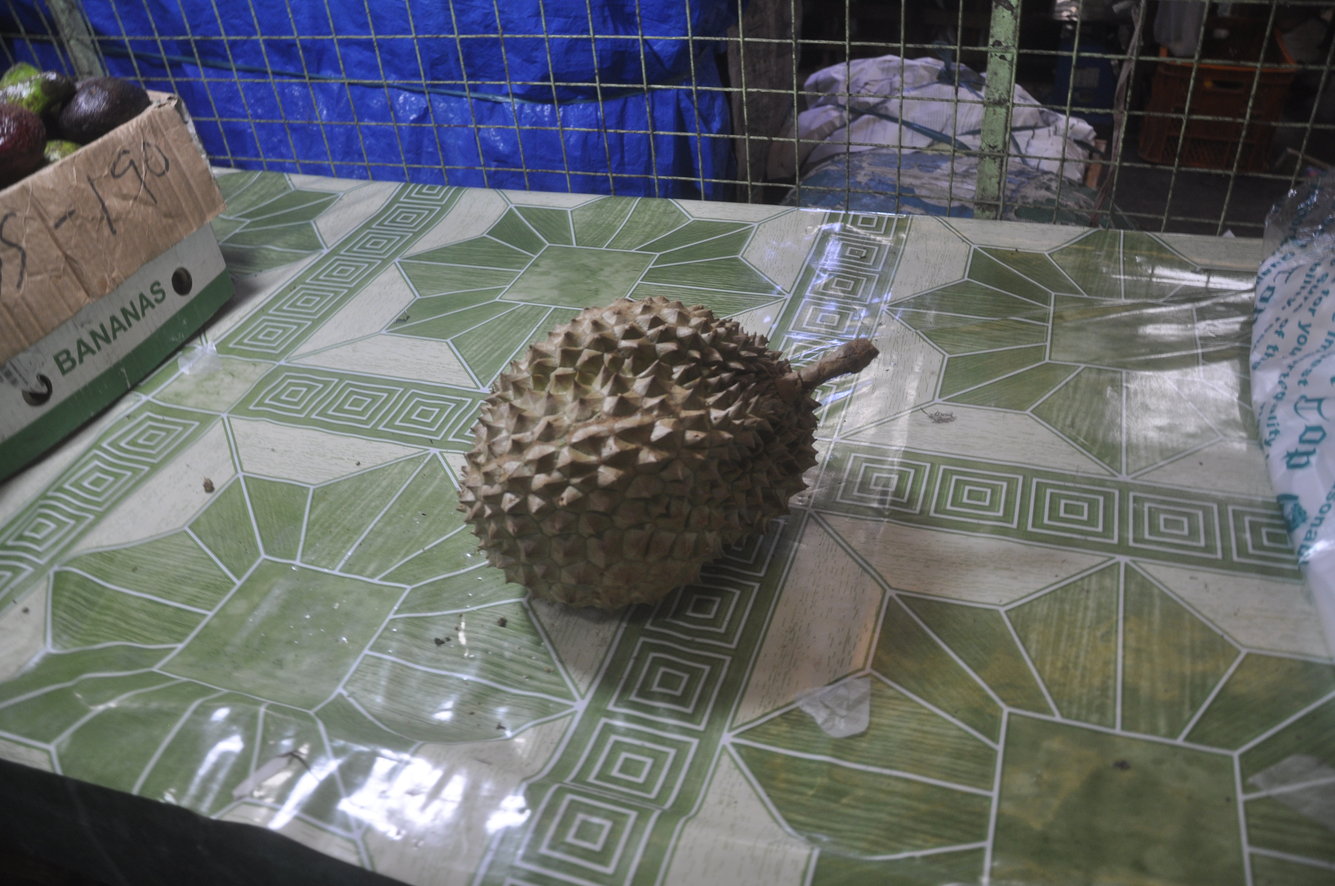mature: (460, 297, 878, 610)
